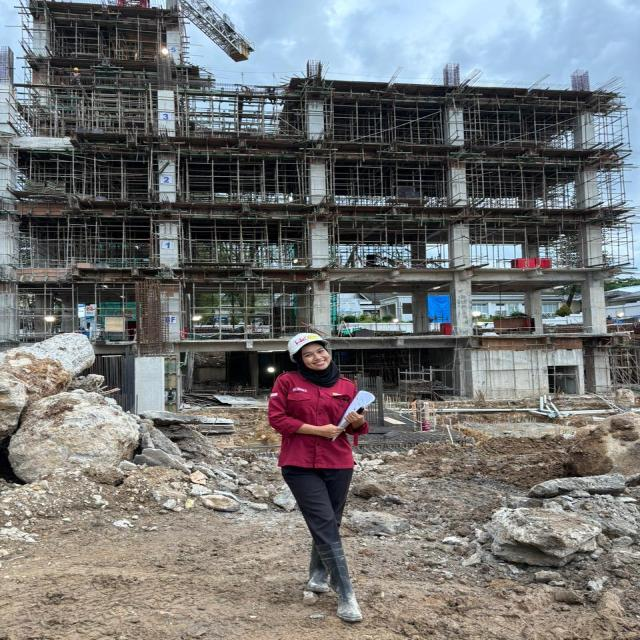safetyhelmet: (280, 323, 344, 385)
